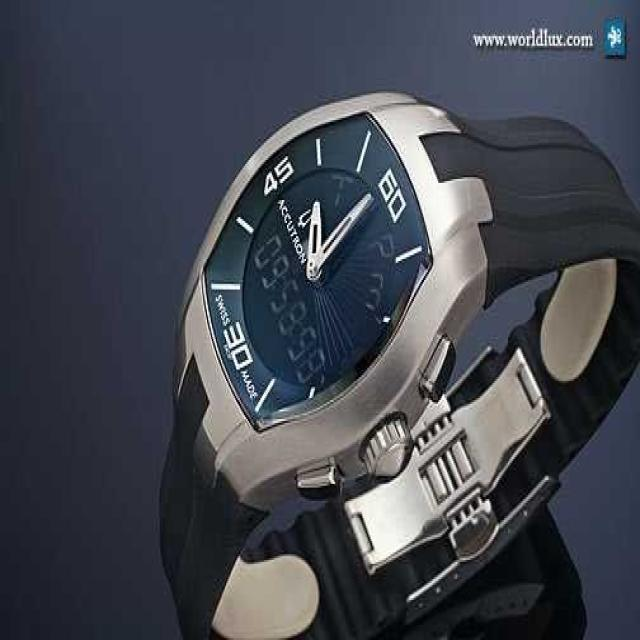watch: (219, 119, 412, 430)
